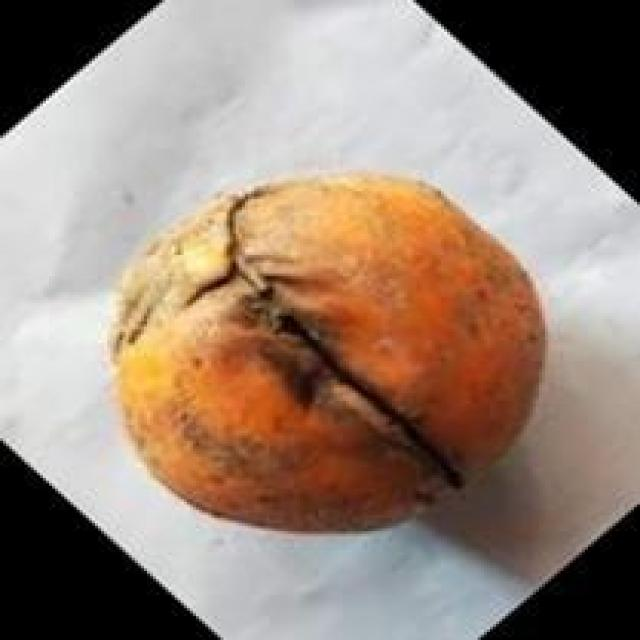damaged: (107, 173, 548, 536)
